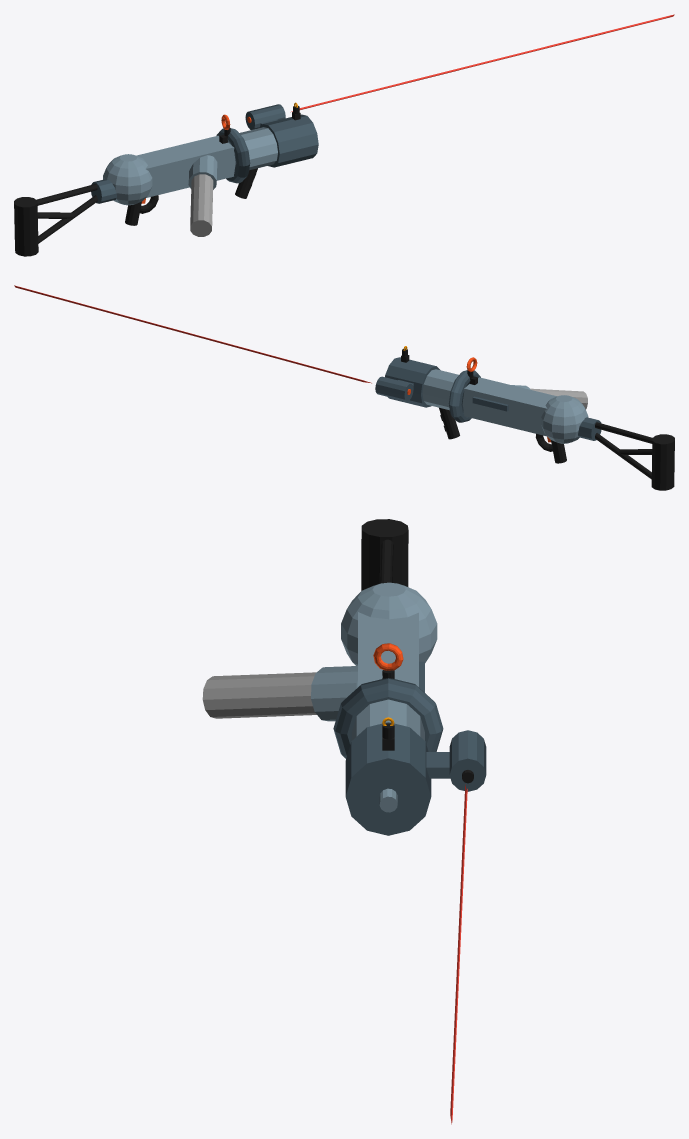
Rendered from Gunver2.glb.
3 views of the same model, one above another, from view 1: azimuth 30°, elevation 25°; view 2: azimuth 150°, elevation 25°; view 3: azimuth 270°, elevation 25° (orthographic). The views are drawn at different scales.
Visible parts, largest first — view 1: group1905530557, group1899818393, group193580999, group1330154301, group684062847, group743998640, group14945472, group943411809, group83853782, group606805888, group1183295508, group1651221572 (+1 smaller); view 2: group1905530557, group193580999, group1330154301, group1899818393, group743998640, group14945472, group943411809, group83853782, group1183295508, group459511357, group1651221572, group684062847 (+1 smaller); view 3: group1899818393, group684062847, group193580999, group943411809, group1905530557, group1330154301, group606805888, group83853782, group743998640, group14945472.
Part boxes in pixels (box(x1,y1,x2,y2)): group1905530557: box(136, 135, 235, 197); group1899818393: box(259, 114, 318, 167); group193580999: box(103, 154, 152, 205); group1330154301: box(14, 197, 38, 256); group684062847: box(190, 174, 213, 236); group743998640: box(239, 127, 277, 170); group14945472: box(290, 14, 674, 112); group943411809: box(216, 128, 250, 183); group83853782: box(245, 104, 285, 129); group606805888: box(188, 155, 217, 189); group1183295508: box(38, 195, 97, 243); group1651221572: box(91, 179, 116, 203); group1905530557: box(462, 377, 556, 436); group193580999: box(541, 395, 588, 443); group1330154301: box(651, 434, 674, 490); group1899818393: box(385, 357, 440, 407); group743998640: box(422, 369, 458, 410); group14945472: box(14, 285, 371, 383); group943411809: box(448, 370, 480, 422); group83853782: box(375, 376, 413, 401); group1183295508: box(595, 433, 651, 479); group459511357: box(595, 422, 652, 443); group1651221572: box(578, 417, 601, 440); group684062847: box(530, 388, 587, 409); group1899818393: box(345, 722, 431, 835); group684062847: box(202, 672, 316, 718); group193580999: box(341, 582, 437, 665); group943411809: box(333, 678, 443, 758); group1905530557: box(358, 612, 418, 686); group1330154301: box(361, 519, 408, 590); group606805888: box(311, 666, 357, 721); group83853782: box(449, 730, 486, 791); group743998640: box(351, 699, 424, 740); group14945472: box(450, 784, 467, 1124).
Bounding box in the file's own units: 2.43 × 0.3032 × 0.4637.
